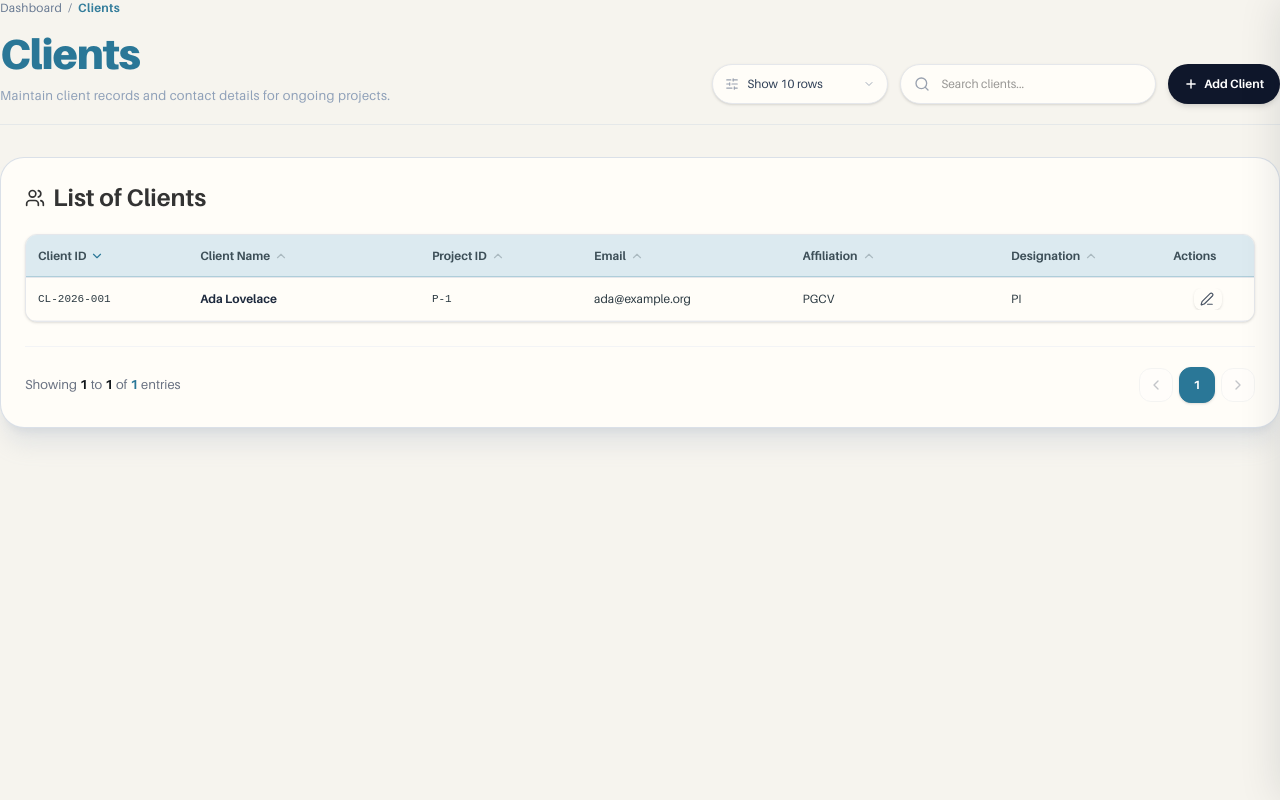
Scenario: ClientsPage edit › writes edited fields back onto the table
Expected: the text "P-1" is shown, [432, 293, 452, 305]
Step 1. Click the button named "Edit client" → (1208, 299), box [1194, 288, 1222, 310]
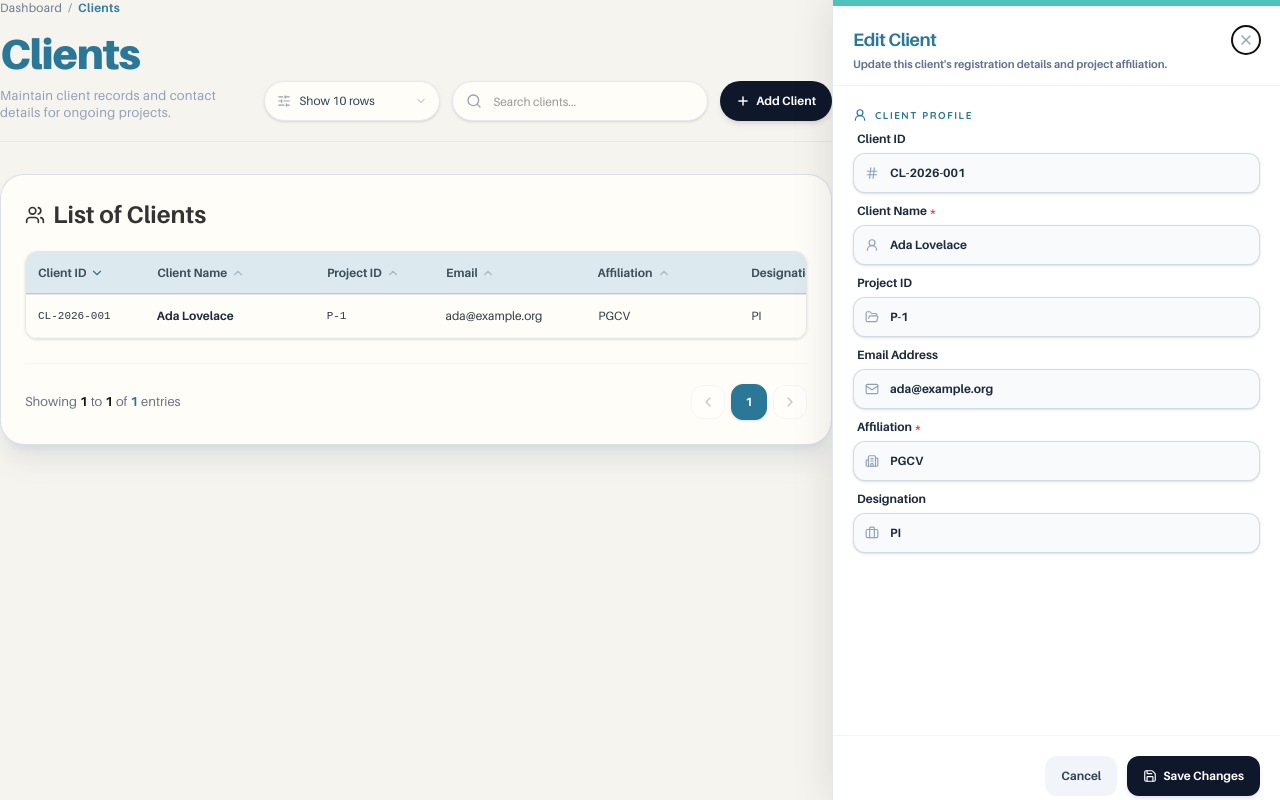
Step 2. Replace the text in the field labelled "Project ID" with "PRJ-204" → (1056, 316), box [853, 296, 1260, 336]
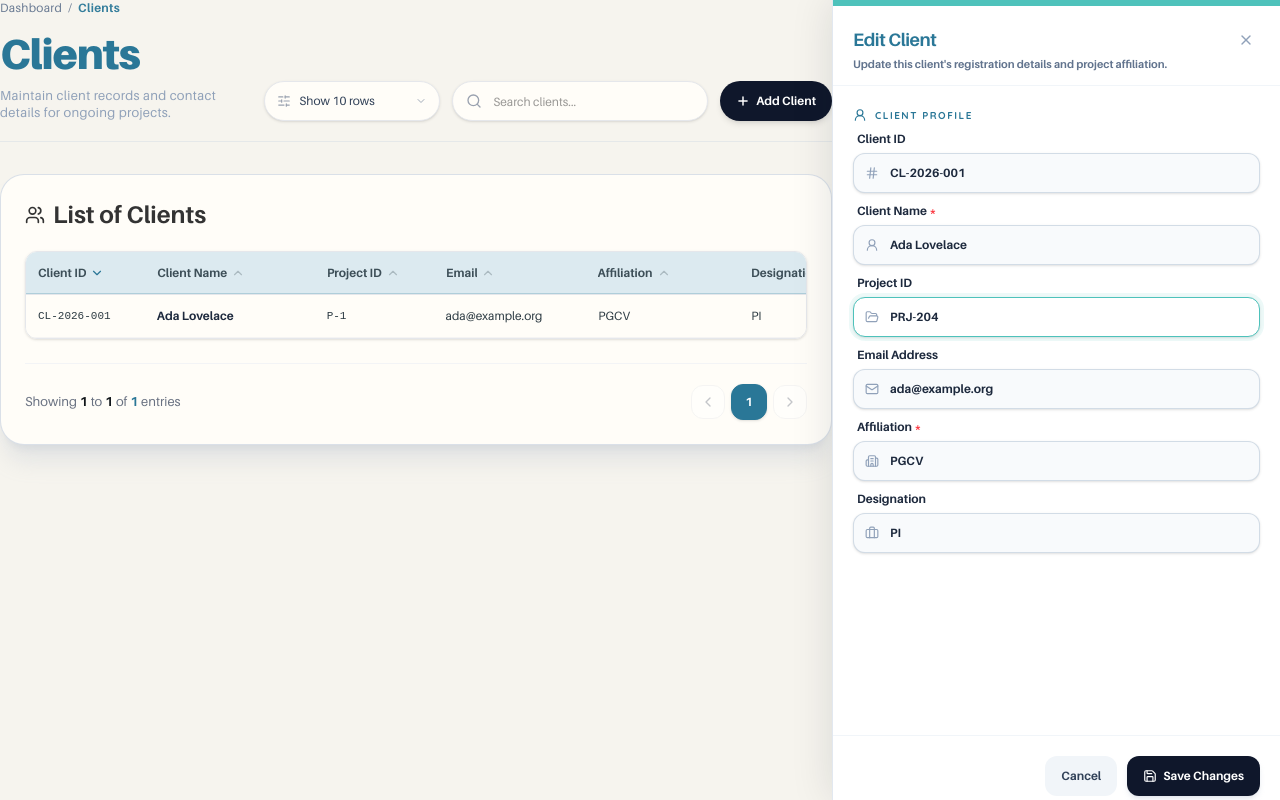
Step 3. Replace the text in the field labelled "Designation" with "Lead PI" → (1056, 532), box [853, 512, 1260, 552]
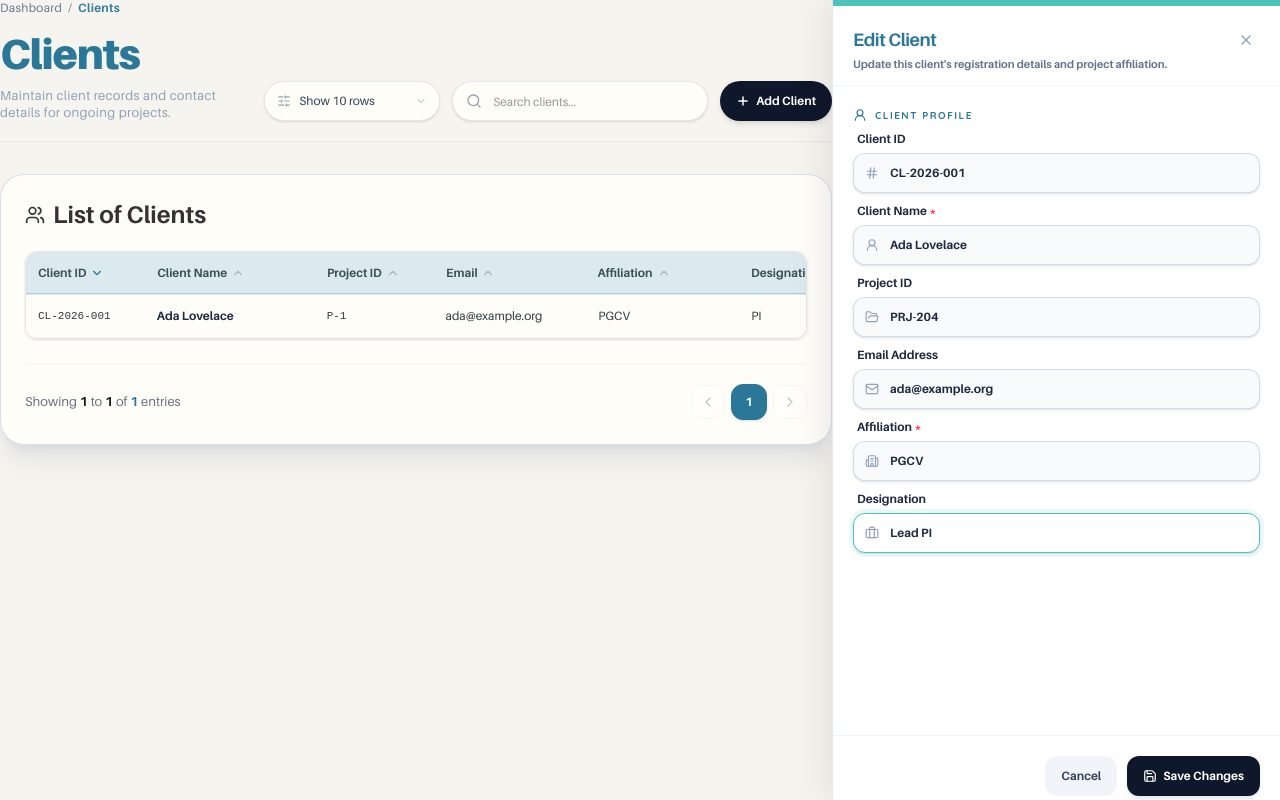
Step 4. Click the button "Save Changes" → (1194, 776), box [1127, 756, 1260, 796]
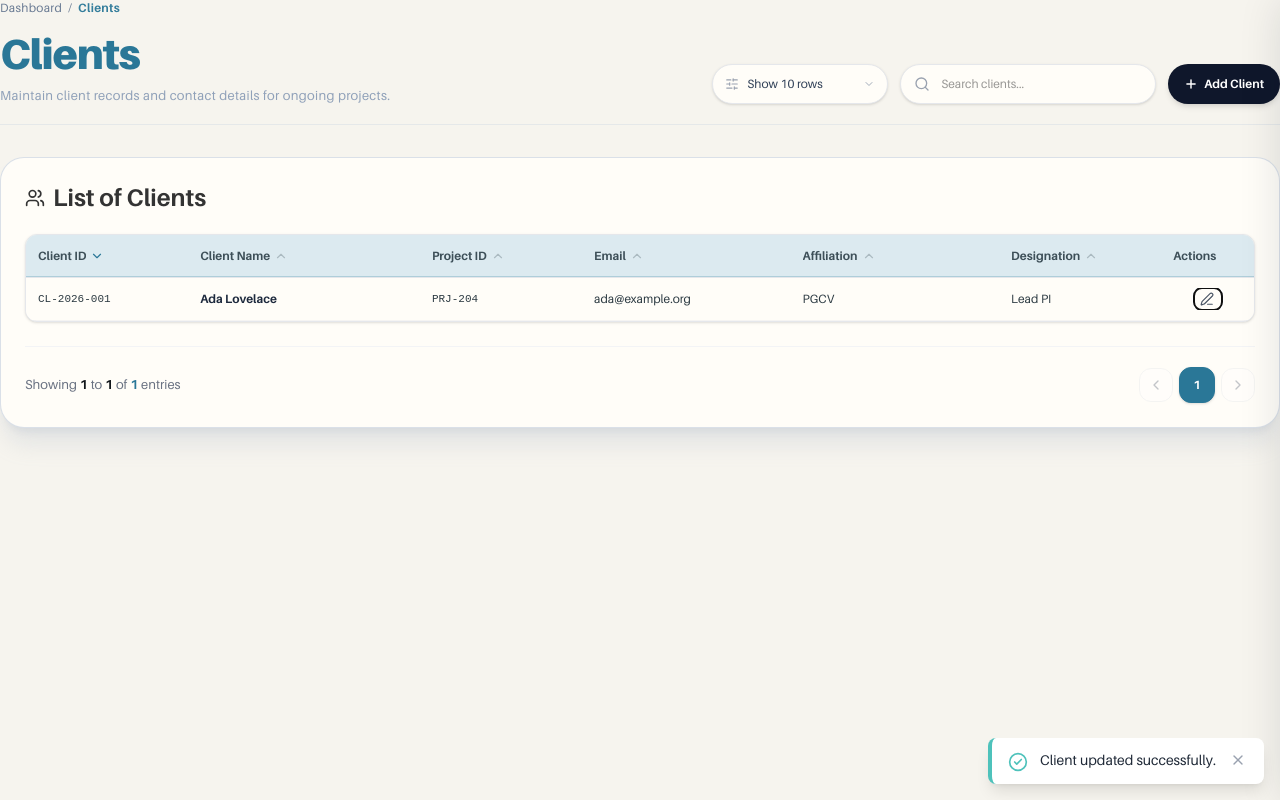
Expected: the text "PRJ-204" is shown, [432, 293, 478, 305]
Expected: the text "Lead PI" is shown, [1011, 291, 1051, 306]
Expected: the text "Client updated successfully." is shown, [1040, 750, 1216, 769]
